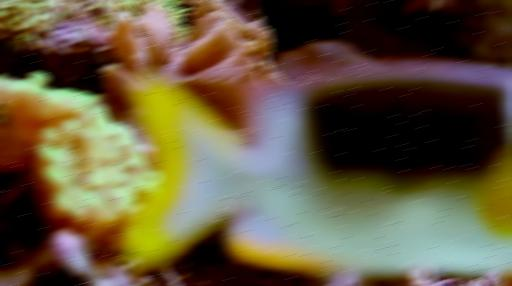Fish: (124, 60, 511, 273)
